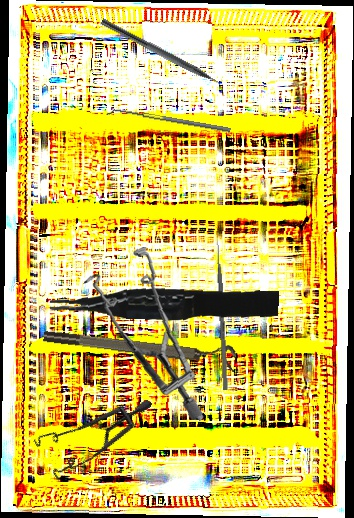Chopper: (96, 18, 231, 98)
Fixation Ring: (42, 319, 238, 372)
Pusher: (214, 232, 229, 391)
Spatula Surgical: (106, 106, 231, 137)
Speculum: (72, 242, 220, 421), (23, 360, 153, 499)
Tissue Forceps: (49, 279, 280, 327)
